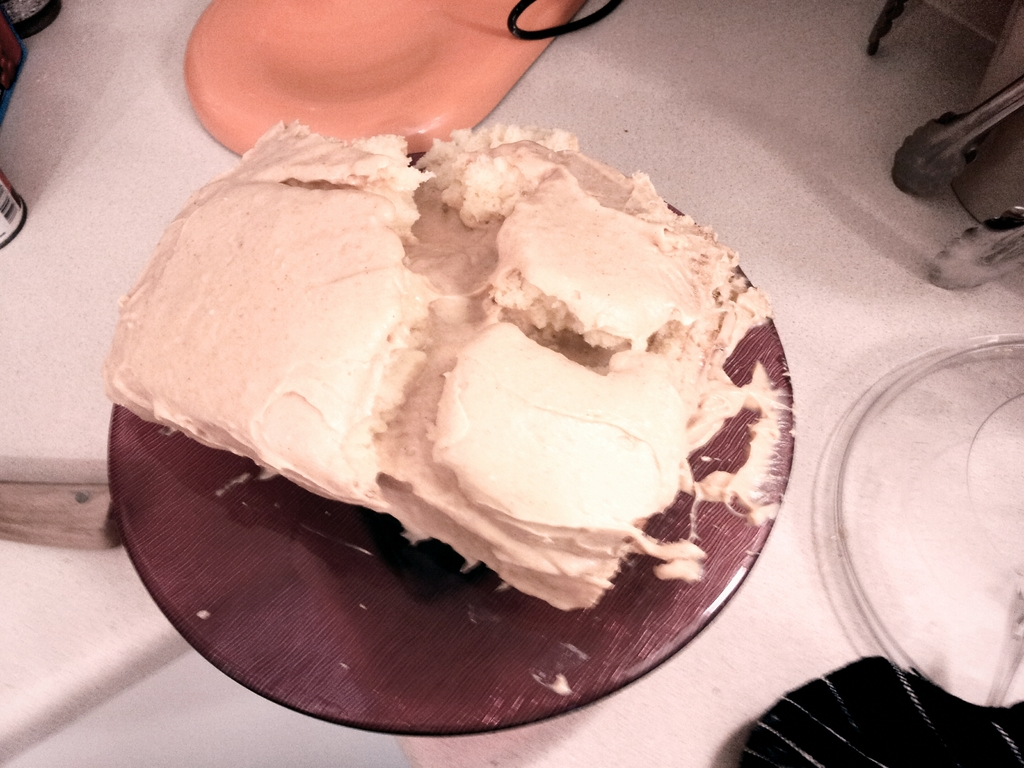cake: (92, 109, 786, 615)
